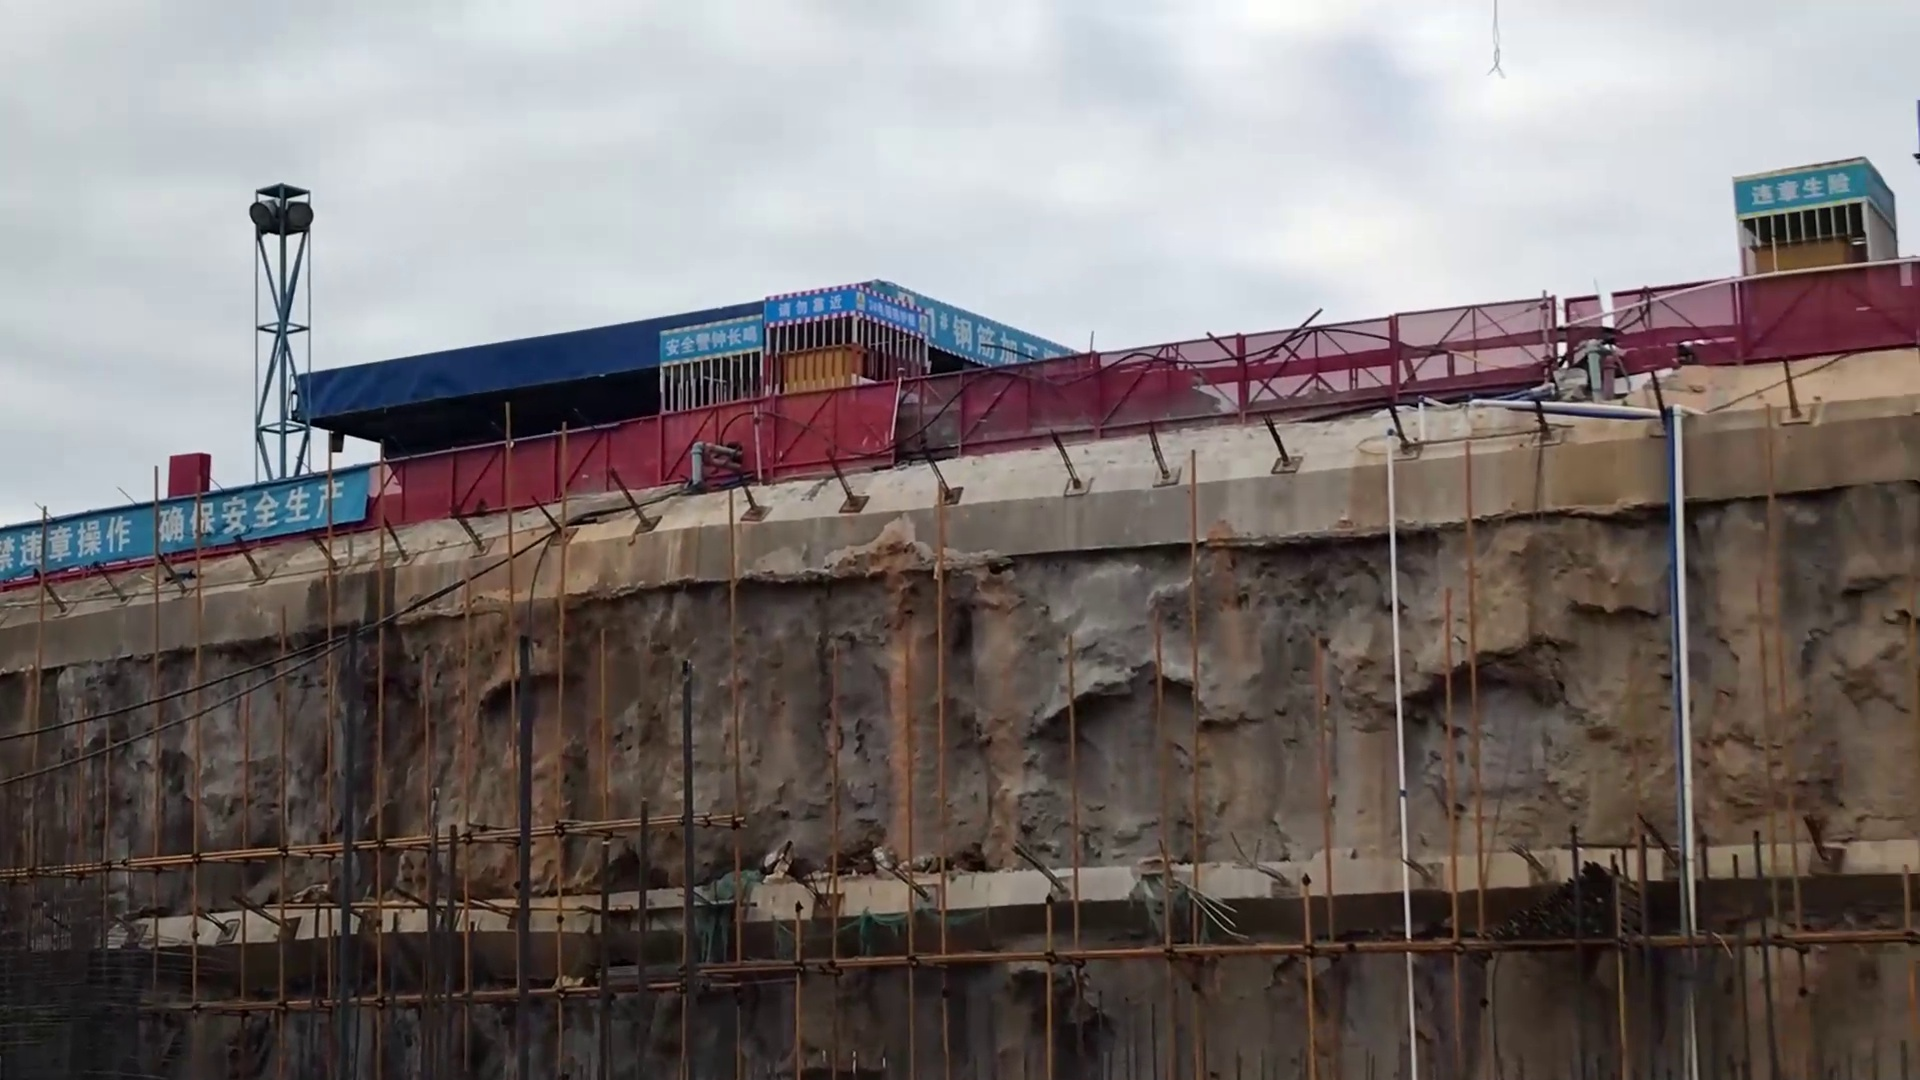slogan: (3, 473, 376, 568), (651, 320, 765, 367)
